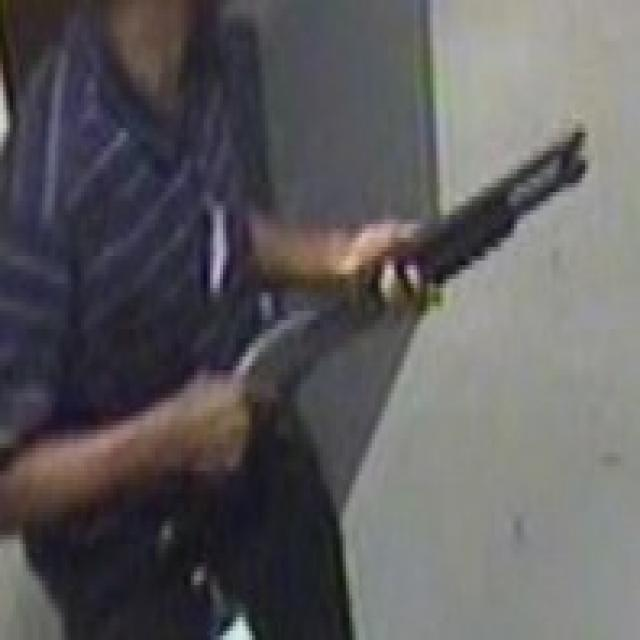heavy-weapon: (207, 104, 597, 479)
